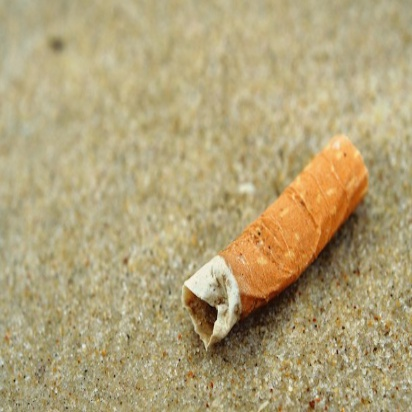cigarette: (176, 130, 380, 355)
